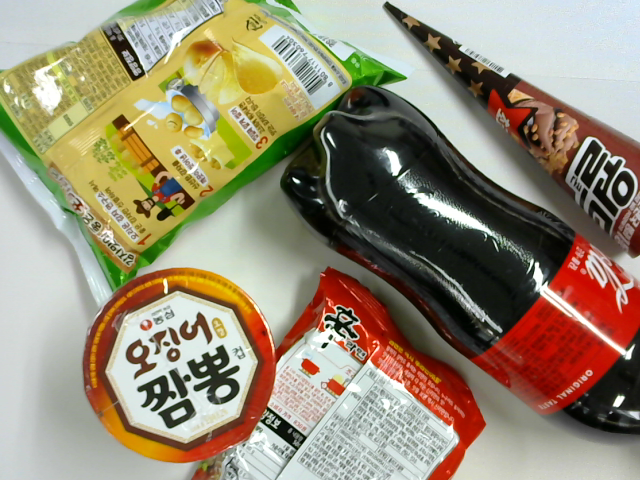Coca_Cola_1.5L: (274, 84, 640, 450)
Ojjam: (80, 272, 268, 457)
Pocachip_Onion: (1, 1, 384, 299)
Sinramen: (201, 281, 484, 480)
World_Cone_Choco: (384, 1, 640, 258)
